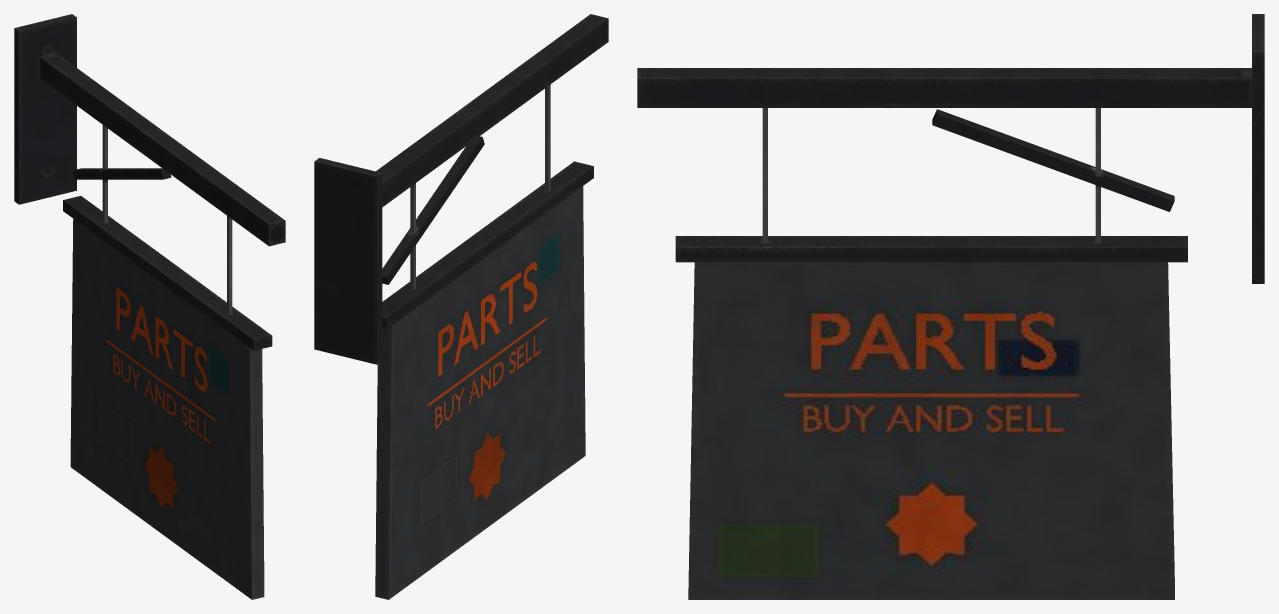
File: shop_sign_parts.glb
3 views of the same model, side by side, from view 1: azimuth 30°, elevation 25°; view 2: azimuth 150°, elevation 25°; view 3: azimuth 270°, elevation 25° (orthographic). The views are drawn at different scales.
Parts seen in each view (by area): view 1: shop_sign_parts; view 2: shop_sign_parts; view 3: shop_sign_parts.
Part boxes in pixels (x1=…): shop_sign_parts: x1=14, y1=14, x2=285, y2=599; shop_sign_parts: x1=314, y1=14, x2=608, y2=599; shop_sign_parts: x1=637, y1=14, x2=1264, y2=599.
Bounding box in the file's own units: 0.14 × 0.97 × 0.98.
1 material, 1 textured.
